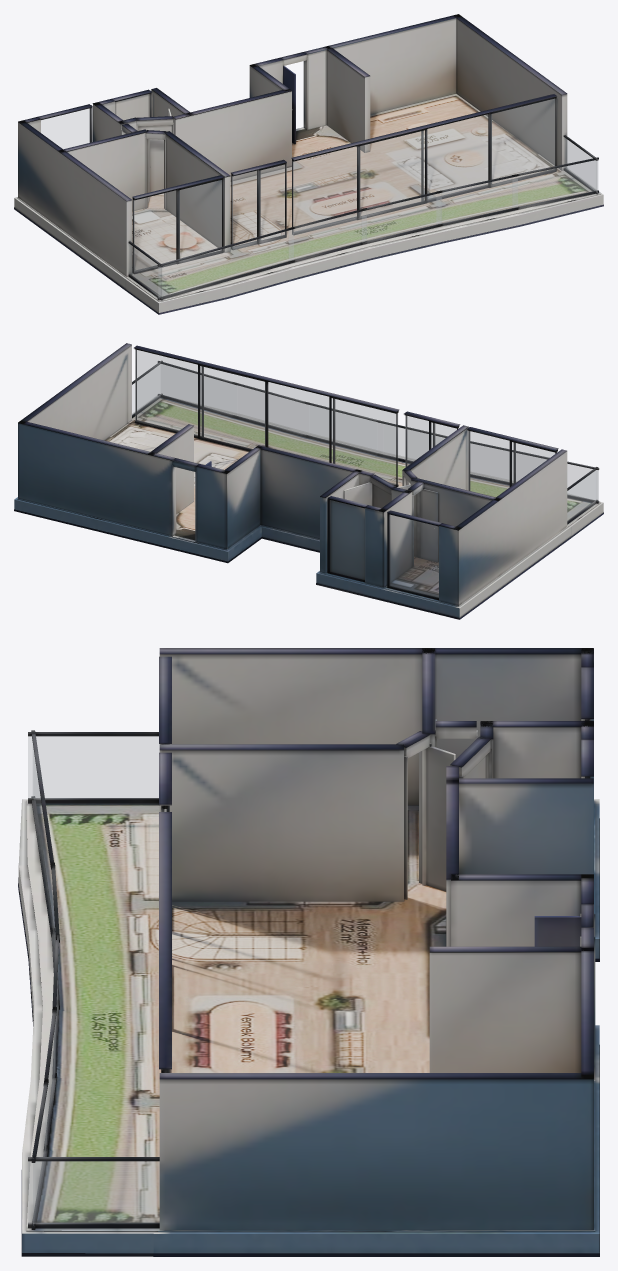
3 renders of one model, top to bottom at view 1: azimuth 30°, elevation 25°; view 2: azimuth 150°, elevation 25°; view 3: azimuth 270°, elevation 25°, orthographic. The views are drawn at different scales.
Parts seen in each view (by area): view 1: plan, glass4_m, glass2_m, railg6_m, glass3_m, railg2_m, railg3_m, railg4_m, railg5_m, glass0_m, railg1_m, railg0_m; view 2: plan, glass4_m, glass0_m, glass2_m, railg6_m, glass1_m, railg2_m, railg3_m, railg4_m, glass3_m, railg5_m, railg1_m (+1 smaller); view 3: plan, railg0_m, railg1_m, railg6_m.
Boxes of the visible parts, bbox=[...] form: plan: bbox=[14, 14, 603, 314]; glass4_m: bbox=[293, 99, 554, 232]; glass2_m: bbox=[134, 180, 221, 271]; railg6_m: bbox=[158, 229, 293, 297]; glass3_m: bbox=[232, 165, 284, 247]; railg2_m: bbox=[512, 160, 598, 207]; railg3_m: bbox=[436, 176, 517, 224]; railg4_m: bbox=[362, 193, 441, 241]; railg5_m: bbox=[289, 210, 366, 260]; glass0_m: bbox=[41, 108, 89, 148]; railg1_m: bbox=[129, 244, 161, 297]; railg0_m: bbox=[565, 138, 597, 191]; plan: bbox=[14, 343, 603, 619]; glass4_m: bbox=[135, 349, 395, 483]; glass0_m: bbox=[389, 515, 438, 597]; glass2_m: bbox=[468, 431, 554, 496]; railg6_m: bbox=[471, 444, 598, 500]; glass1_m: bbox=[330, 500, 364, 579]; railg2_m: bbox=[161, 364, 232, 414]; railg3_m: bbox=[238, 386, 304, 434]; railg4_m: bbox=[310, 405, 376, 452]; glass3_m: bbox=[405, 416, 458, 466]; railg5_m: bbox=[383, 424, 444, 460]; railg1_m: bbox=[567, 470, 596, 520]; plan: bbox=[18, 648, 599, 1256]; railg0_m: bbox=[28, 1161, 159, 1223]; railg1_m: bbox=[28, 736, 159, 798]; railg6_m: bbox=[33, 748, 53, 930].
Bounding box in the file's own units: 13.9 × 2.62 × 7.85.
Materials: 2 (1 with a texture image).
